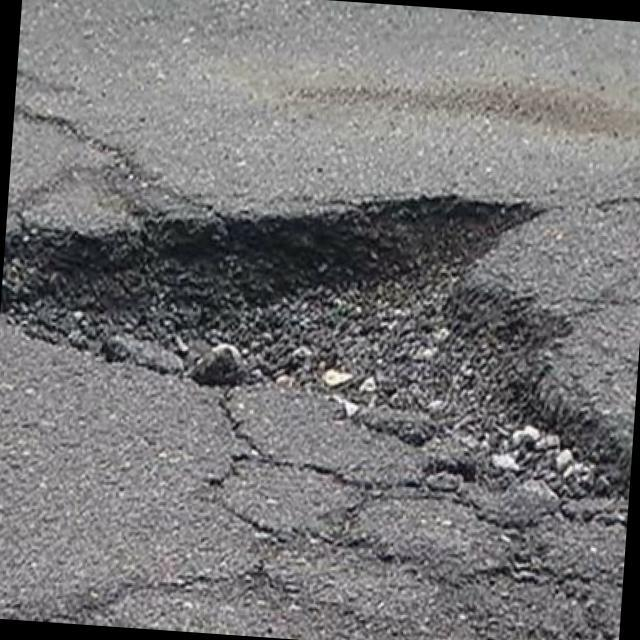Pothole: (0, 163, 640, 521)
